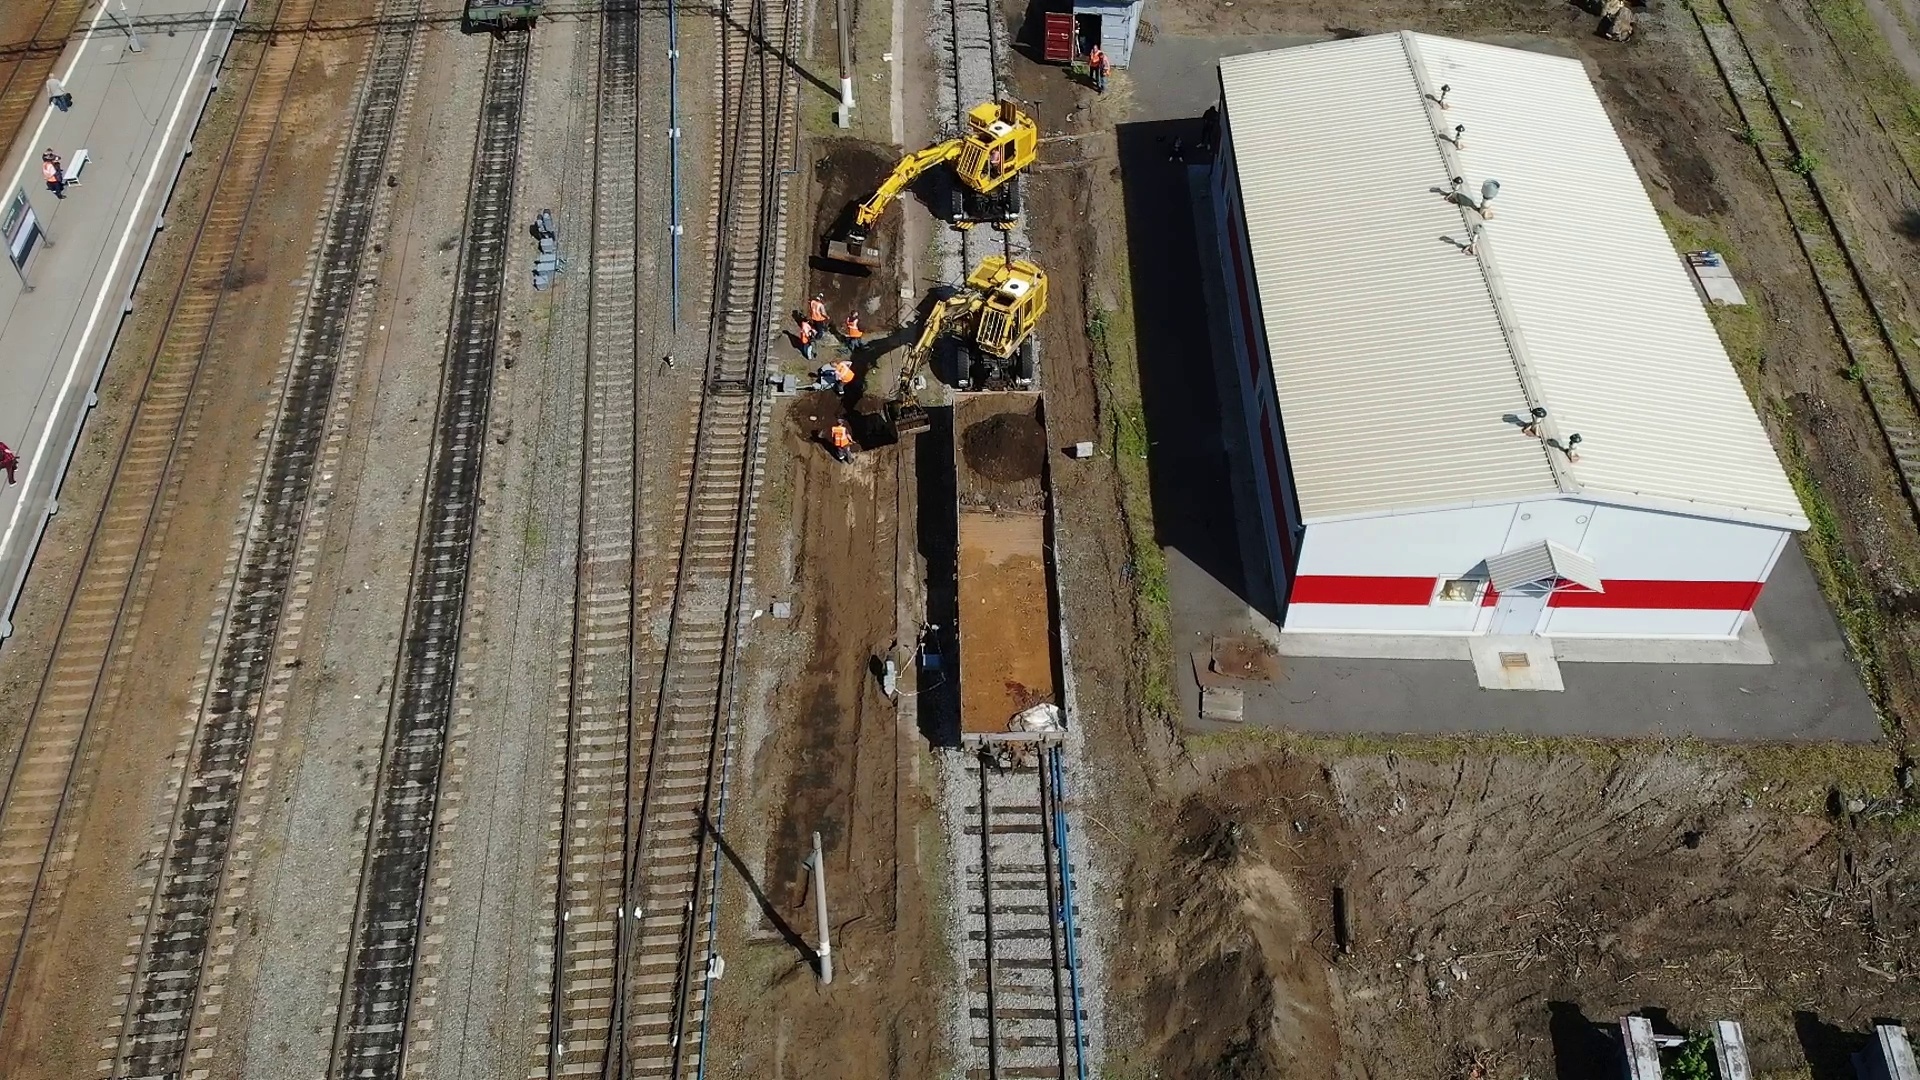kjtv: (936, 108, 1030, 224), (959, 262, 1047, 382)
